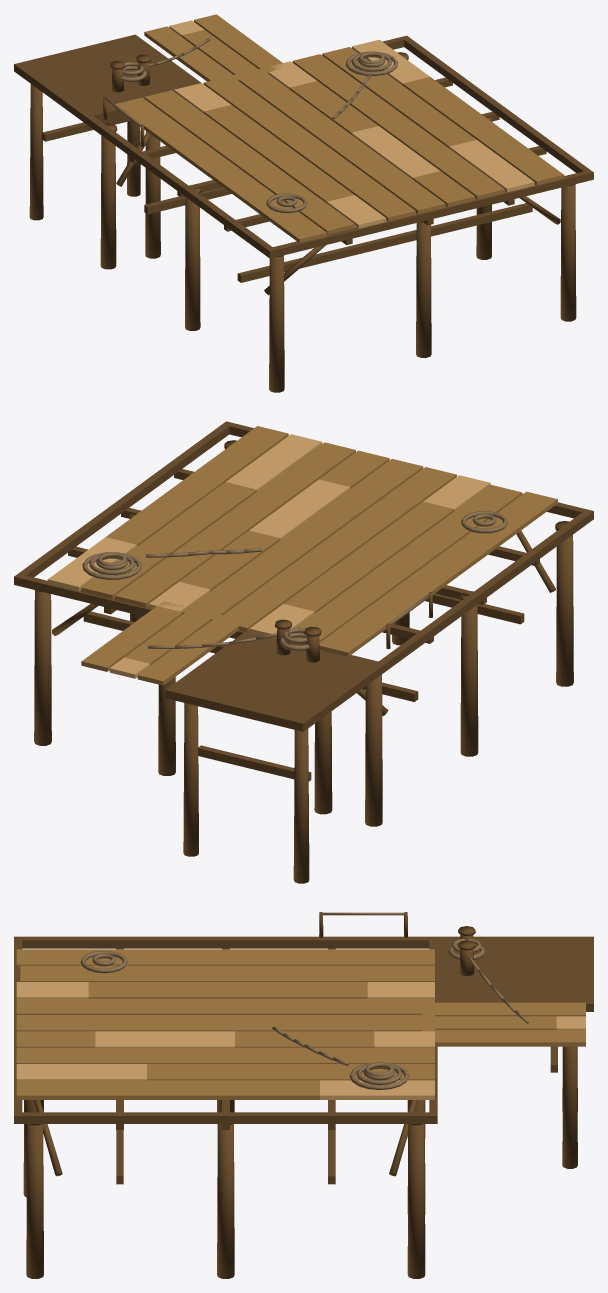
The model's file is PierHead.fbx.
3 views of the same model, one above another, from view 1: azimuth 30°, elevation 25°; view 2: azimuth 150°, elevation 25°; view 3: azimuth 270°, elevation 25° (orthographic). The views are drawn at different scales.
Visible parts, largest first — view 1: PierHead; view 2: PierHead; view 3: PierHead.
Part boxes in pixels (x1,y1,x2,y2): PierHead: (14, 14, 593, 392); PierHead: (14, 421, 593, 883); PierHead: (14, 912, 593, 1278).
Size of the model in its own units: 800 by 421 by 1095.
